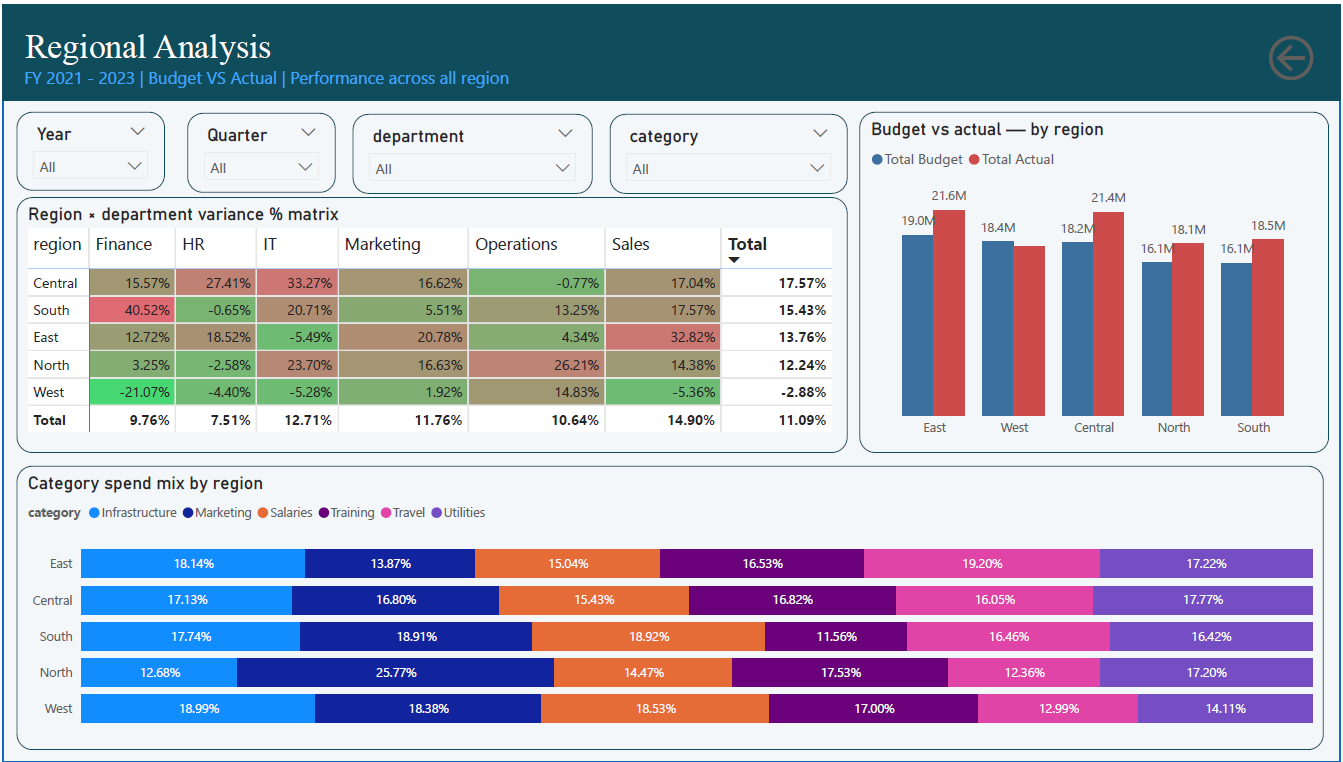

This screenshot's page, from the dashboard's own definition file:
{"tool":"powerbi","page":{"name":"Region","canvas":[1280,720],"ordinal":3},"visuals":[{"type":"shape","box":[9.6,0,1270.7,720.4],"z":0},{"type":"textbox","box":[9.6,0,1270.7,90.6],"z":1000},{"type":"pivotTable","title":"Region × department variance % matrix","fields":{"Rows":["Fact_PL.region"],"Columns":["Fact_PL.department"],"Values":["Fact_PL.Variance %"]},"box":[23,182.7,789,243.6],"z":2000},{"type":"hundredPercentStackedBarChart","title":"Category spend mix by region","fields":{"Category":["Fact_PL.region"],"Series":["Fact_PL.category"],"Y":["Fact_PL.Actual (M)"]},"box":[23,438.5,1241,269.3],"z":3000},{"type":"slicer","fields":{"Values":["Fact_PL.Year"]},"box":[23,101.5,140.7,75.8],"z":4000},{"type":"slicer","fields":{"Values":["Fact_PL.Quarter"]},"box":[185.4,102.9,140.7,75.8],"z":5000},{"type":"slicer","fields":{"Values":["Fact_PL.category"]},"box":[586,104.2,226,75.8],"z":6000},{"type":"clusteredColumnChart","title":"Budget vs actual — by region","fields":{"Category":["Fact_PL.region"],"Y":["Fact_PL.Total Budget","Fact_PL.Total Actual"]},"box":[822.8,101.5,446.6,324.8],"z":7000},{"type":"slicer","fields":{"Values":["Fact_PL.department"]},"box":[342.4,104.2,227.4,75.8],"z":8000},{"type":"actionButton","box":[1197.2,11,72.1,79.5],"z":9000}]}

Visuals, with their boxes in screenshot pixels (x1, y1, x2, y2), scaled from the page's 1280x720 canvas onto the 1343x762 screenshot:
shape: {"left": 10, "top": 0, "right": 1342, "bottom": 761}
textbox: {"left": 10, "top": 0, "right": 1342, "bottom": 96}
"Region × department variance % matrix" pivotTable: {"left": 24, "top": 193, "right": 852, "bottom": 451}
"Category spend mix by region" hundredPercentStackedBarChart: {"left": 24, "top": 464, "right": 1326, "bottom": 749}
slicer - Fact_PL.Year: {"left": 24, "top": 107, "right": 172, "bottom": 188}
slicer - Fact_PL.Quarter: {"left": 195, "top": 109, "right": 342, "bottom": 189}
slicer - Fact_PL.category: {"left": 615, "top": 110, "right": 852, "bottom": 190}
"Budget vs actual — by region" clusteredColumnChart: {"left": 863, "top": 107, "right": 1332, "bottom": 451}
slicer - Fact_PL.department: {"left": 359, "top": 110, "right": 598, "bottom": 190}
actionButton: {"left": 1256, "top": 12, "right": 1332, "bottom": 96}
